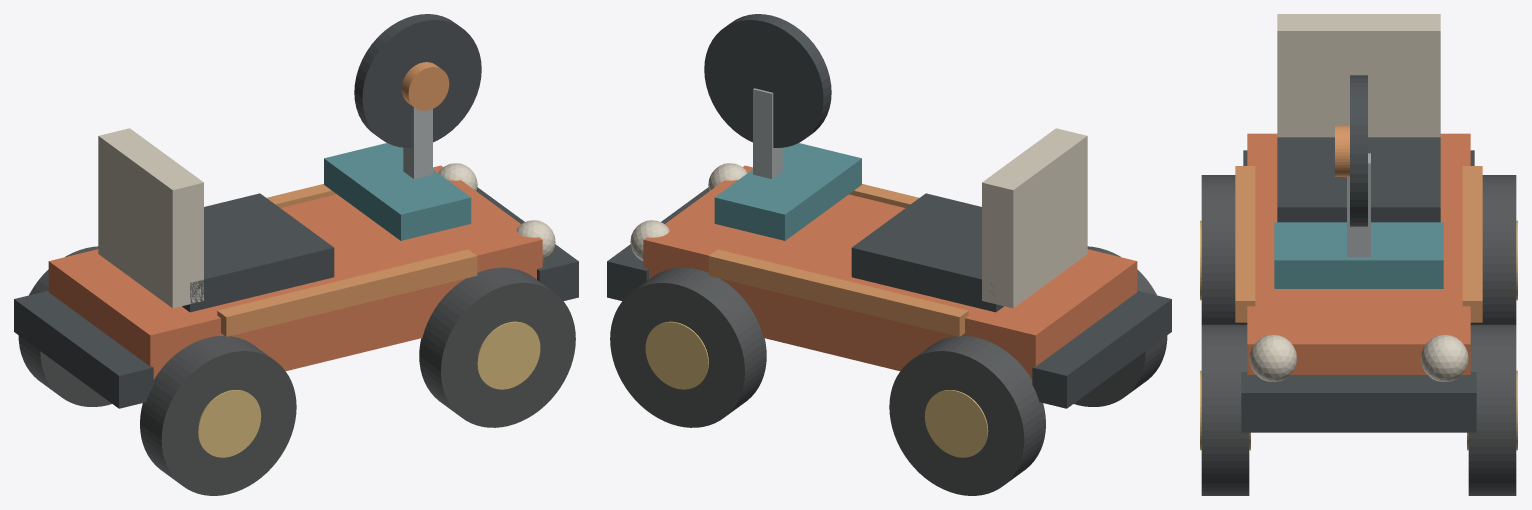
File: ride-on-toy.glb
3 renders of one model, left to right at view 1: azimuth 30°, elevation 25°; view 2: azimuth 150°, elevation 25°; view 3: azimuth 270°, elevation 25°, orthographic. The views are drawn at different scales.
Visible parts, largest first — view 1: main_chassis, wheel_0.9_0.67, wheel_-0.88_0.67, seat_back, seat_base, steering_wheel, dashboard, rear_bumper, side_rail_0.57, hub_0.9_0.67, hub_-0.88_0.67, wheel_-0.88_-0.67 (+6 smaller); view 2: main_chassis, wheel_0.9_-0.67, wheel_-0.88_-0.67, seat_back, steering_wheel, seat_base, dashboard, rear_bumper, side_rail_-0.57, hub_0.9_-0.67, hub_-0.88_-0.67, wheel_-0.88_0.67 (+5 smaller); view 3: main_chassis, seat_back, front_bumper, seat_base, dashboard, wheel_0.9_-0.67, wheel_0.9_0.67, wheel_-0.88_-0.67, wheel_-0.88_0.67, side_rail_-0.57, side_rail_0.57, steering_wheel (+4 smaller).
Boxes of the visible parts, <box> form: main_chassis: <box>48,165,542,379</box>; wheel_0.9_0.67: <box>419,267,575,427</box>; wheel_-0.88_0.67: <box>140,336,296,495</box>; seat_back: <box>98,128,203,308</box>; seat_base: <box>182,193,334,312</box>; steering_wheel: <box>354,14,481,147</box>; dashboard: <box>324,143,471,240</box>; rear_bumper: <box>14,290,153,408</box>; side_rail_0.57: <box>217,249,477,336</box>; hub_0.9_0.67: <box>477,321,540,389</box>; hub_-0.88_0.67: <box>197,390,261,457</box>; wheel_-0.88_-0.67: <box>18,246,111,406</box>; main_chassis: <box>643,165,1137,379</box>; wheel_0.9_-0.67: <box>610,267,766,427</box>; wheel_-0.88_-0.67: <box>889,336,1045,495</box>; seat_back: <box>982,128,1087,308</box>; steering_wheel: <box>704,14,831,147</box>; seat_base: <box>851,193,1003,312</box>; dashboard: <box>714,143,861,240</box>; rear_bumper: <box>1032,290,1171,408</box>; side_rail_-0.57: <box>708,249,968,336</box>; hub_0.9_-0.67: <box>645,321,708,389</box>; hub_-0.88_-0.67: <box>924,390,988,457</box>; wheel_-0.88_0.67: <box>1074,246,1167,406</box>; main_chassis: <box>1247,133,1470,374</box>; seat_back: <box>1277,14,1440,137</box>; front_bumper: <box>1241,372,1476,432</box>; seat_base: <box>1277,137,1440,222</box>; dashboard: <box>1274,222,1443,288</box>; wheel_0.9_-0.67: <box>1468,324,1516,495</box>; wheel_0.9_0.67: <box>1201,324,1249,495</box>; wheel_-0.88_-0.67: <box>1470,175,1516,324</box>; wheel_-0.88_0.67: <box>1201,175,1247,324</box>; side_rail_-0.57: <box>1462,166,1482,322</box>; side_rail_0.57: <box>1235,166,1255,322</box>; steering_wheel: <box>1350,75,1367,226</box>.
Size of the model in its own units: 2.93 by 2.19 by 1.6.
